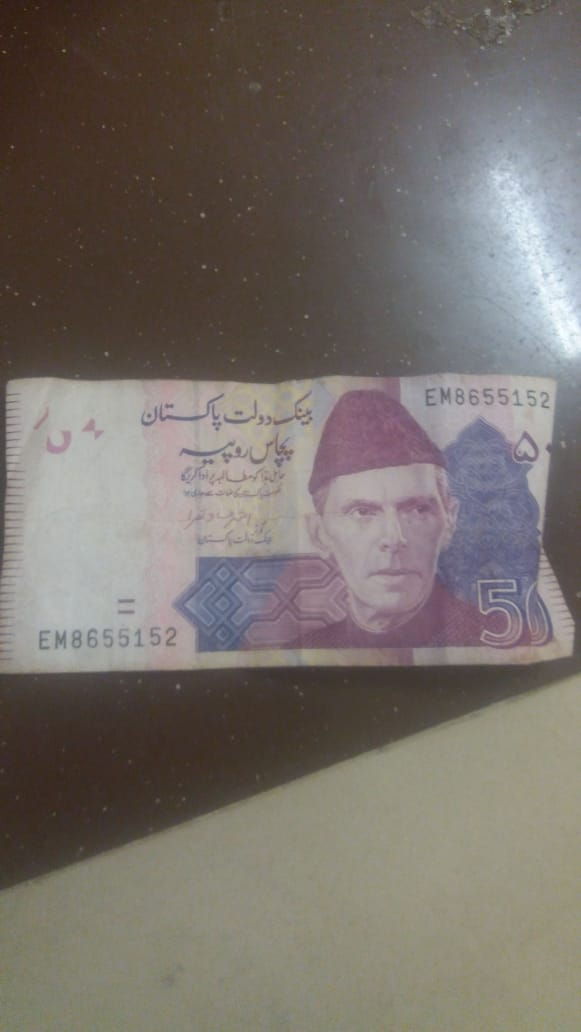50 rupee: (7, 358, 578, 700)
